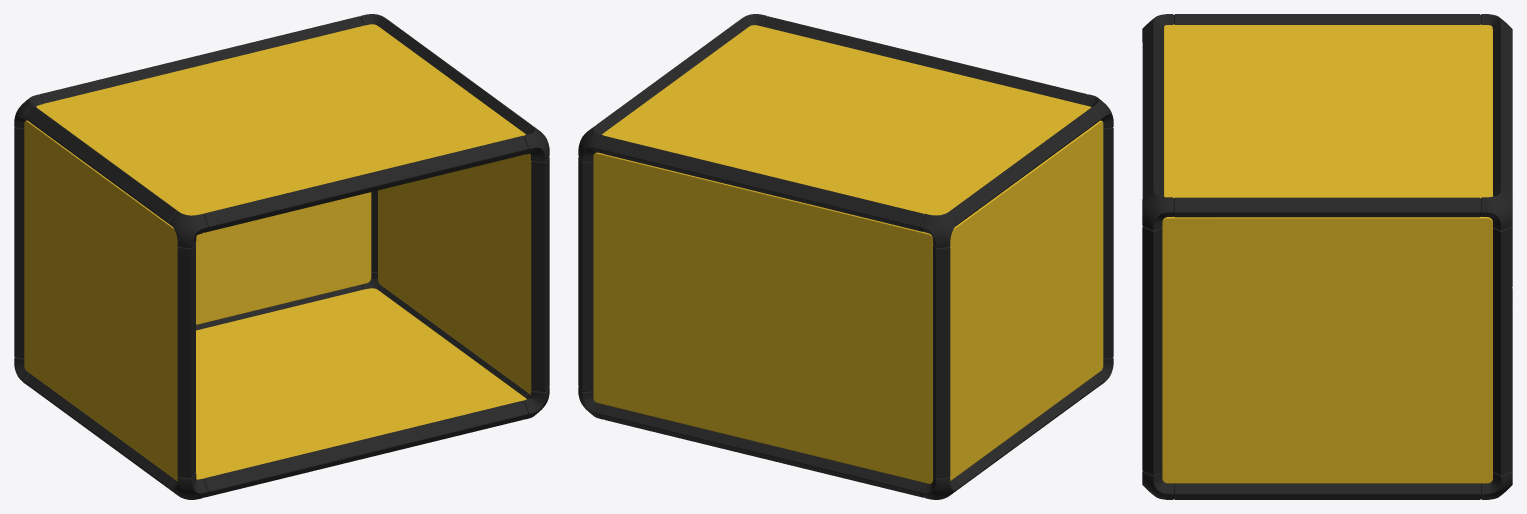
The picture shows the model from 3 angles, left to right: view 1: azimuth 30°, elevation 25°; view 2: azimuth 150°, elevation 25°; view 3: azimuth 270°, elevation 25°; orthographic projection. The views are drawn at different scales.
Parts seen in each view (by area): view 1: 479x374x329; view 2: 479x374x329; view 3: 479x374x329.
Part boxes in pixels (bbox=[...]): 479x374x329: bbox=[14, 14, 549, 499]; 479x374x329: bbox=[578, 14, 1113, 499]; 479x374x329: bbox=[1142, 14, 1512, 499].
Bounding box in the file's own units: 0.5567 × 0.4066 × 0.4513.
